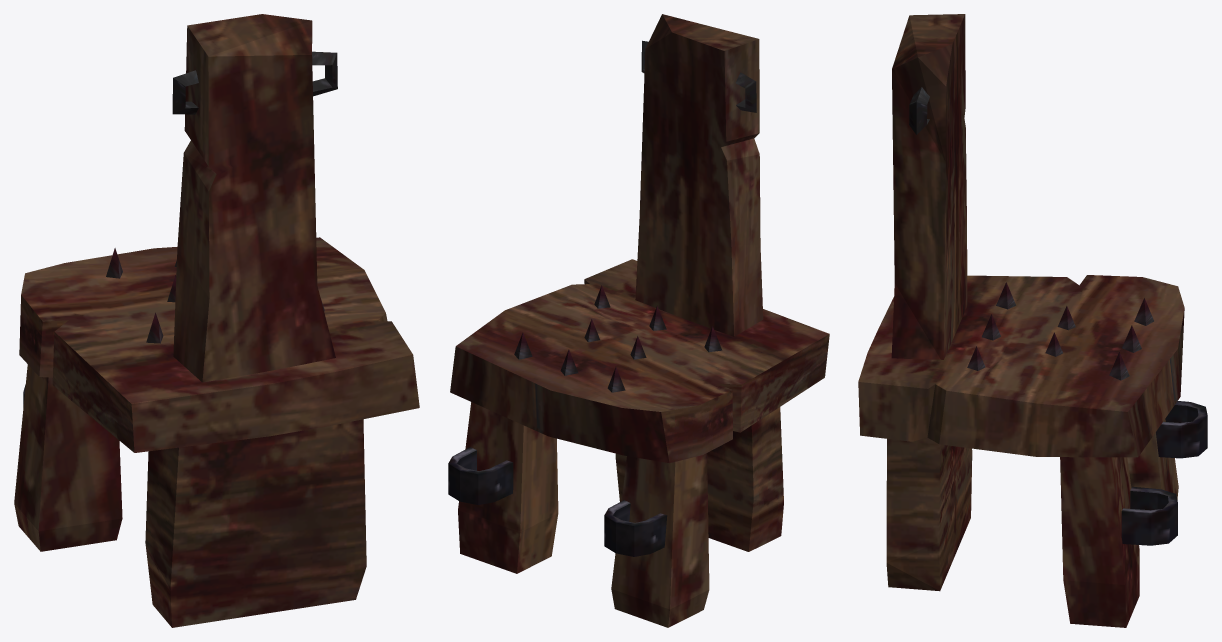
File: Stage001_Object_01.FBX
3 views of the same model, side by side, from view 1: azimuth 30°, elevation 25°; view 2: azimuth 150°, elevation 25°; view 3: azimuth 270°, elevation 25° (orthographic). The views are drawn at different scales.
Parts seen in each view (by area): view 1: Stage001_Object_01; view 2: Stage001_Object_01; view 3: Stage001_Object_01.
Boxes of the visible parts, <box> form: Stage001_Object_01: <box>14,14,419,627</box>; Stage001_Object_01: <box>448,14,829,627</box>; Stage001_Object_01: <box>858,14,1207,627</box>.
Bounding box in the file's own units: 165 × 289 × 177.
1 material, 1 textured.
